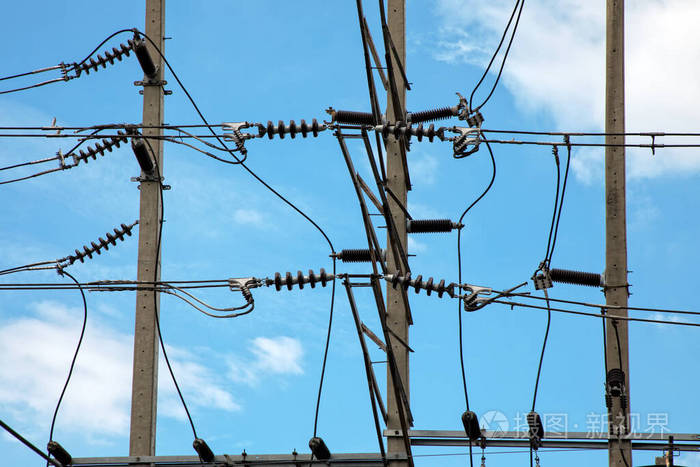insulator: (72, 37, 135, 77), (75, 222, 132, 264), (69, 130, 126, 166), (391, 271, 446, 299), (272, 266, 329, 293), (264, 116, 323, 142), (379, 120, 436, 145)
